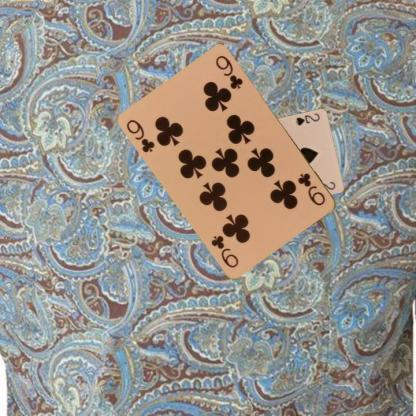2s: (292, 111, 321, 127)
9c: (124, 117, 157, 154), (295, 170, 327, 208)
